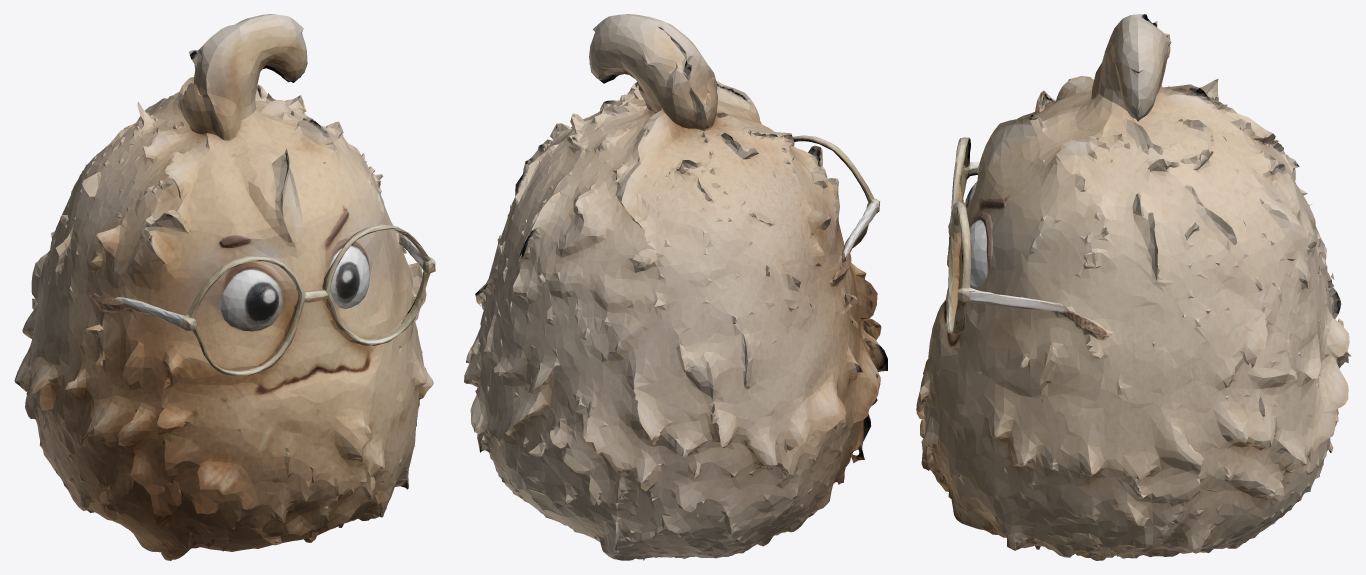
The model's file is sample(2).glb.
The picture shows the model from 3 angles, left to right: view 1: azimuth 30°, elevation 25°; view 2: azimuth 150°, elevation 25°; view 3: azimuth 270°, elevation 25°; orthographic projection. The views are drawn at different scales.
Visible parts, largest first — view 1: world; view 2: world; view 3: world.
Boxes of the visible parts, x1,y1,x2,y2 form: world: [14, 14, 435, 560]; world: [464, 14, 887, 560]; world: [916, 14, 1351, 560].
Size of the model in its own units: 0.7464 by 0.9964 by 0.7377.
Materials: 1 (1 with a texture image).
